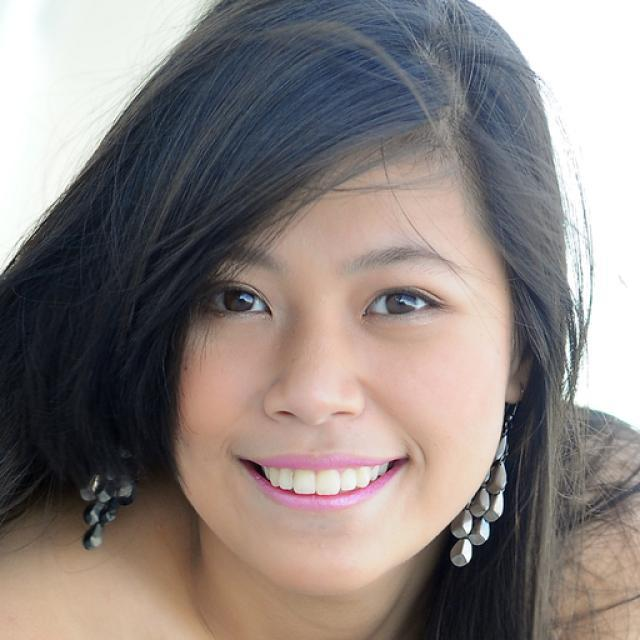happy: (164, 157, 508, 598)
